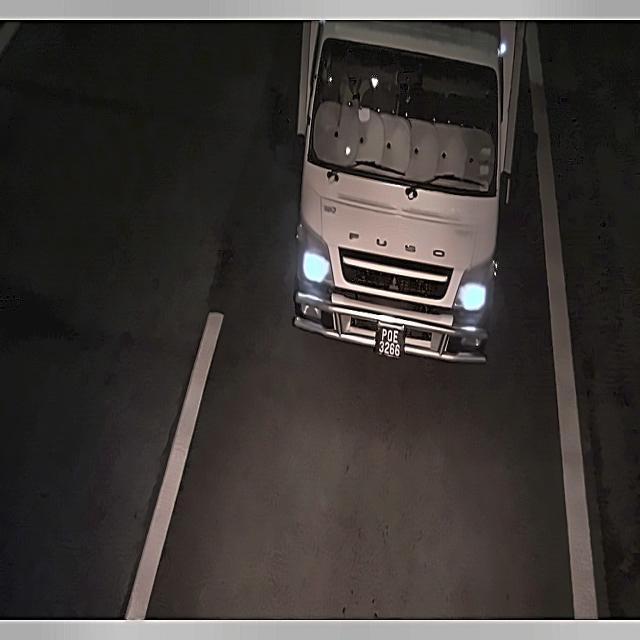car: (371, 318, 410, 363)
